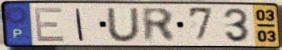3: (223, 7, 250, 44)
7: (187, 6, 216, 45)
E: (33, 6, 67, 43)
I: (74, 7, 85, 43)
R: (140, 6, 178, 44)
U: (105, 7, 143, 44)
